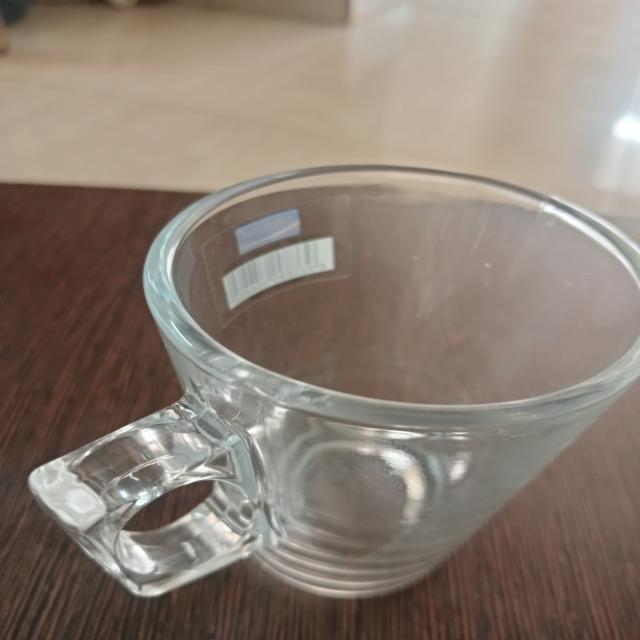glass-VX4N: (34, 138, 640, 640)
